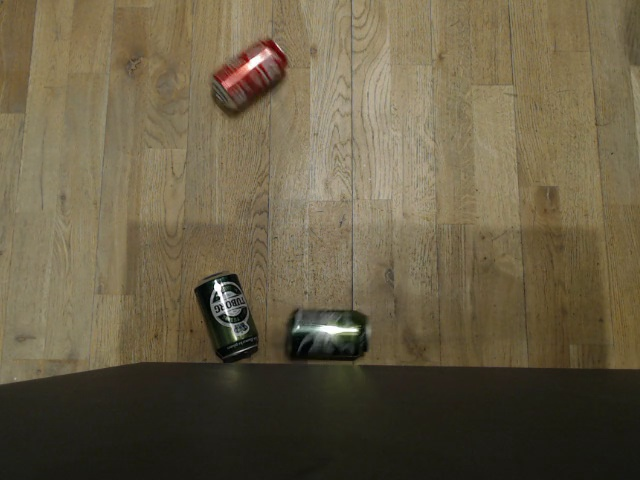beer: (192, 269, 262, 360), (283, 306, 370, 363)
cola: (207, 35, 288, 111)
